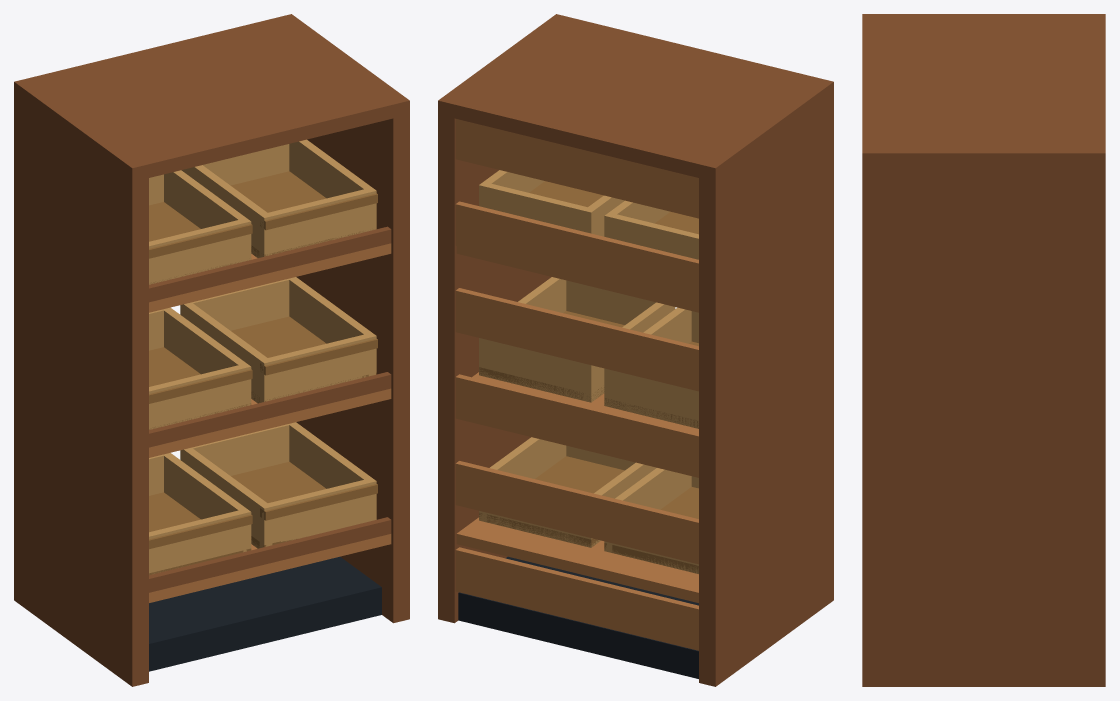
The model's file is PantryShelf.glb.
The picture shows the model from 3 angles, left to right: view 1: azimuth 30°, elevation 25°; view 2: azimuth 150°, elevation 25°; view 3: azimuth 270°, elevation 25°; orthographic projection. The views are drawn at different scales.
Parts seen in each view (by area): view 1: PantryShelf; view 2: PantryShelf; view 3: PantryShelf.
Boxes of the visible parts, x1=… form: PantryShelf: x1=14, y1=14, x2=409, y2=686; PantryShelf: x1=438, y1=14, x2=833, y2=686; PantryShelf: x1=862, y1=14, x2=1105, y2=686.
Size of the model in its own units: 0.84 by 1.5 by 0.62.
